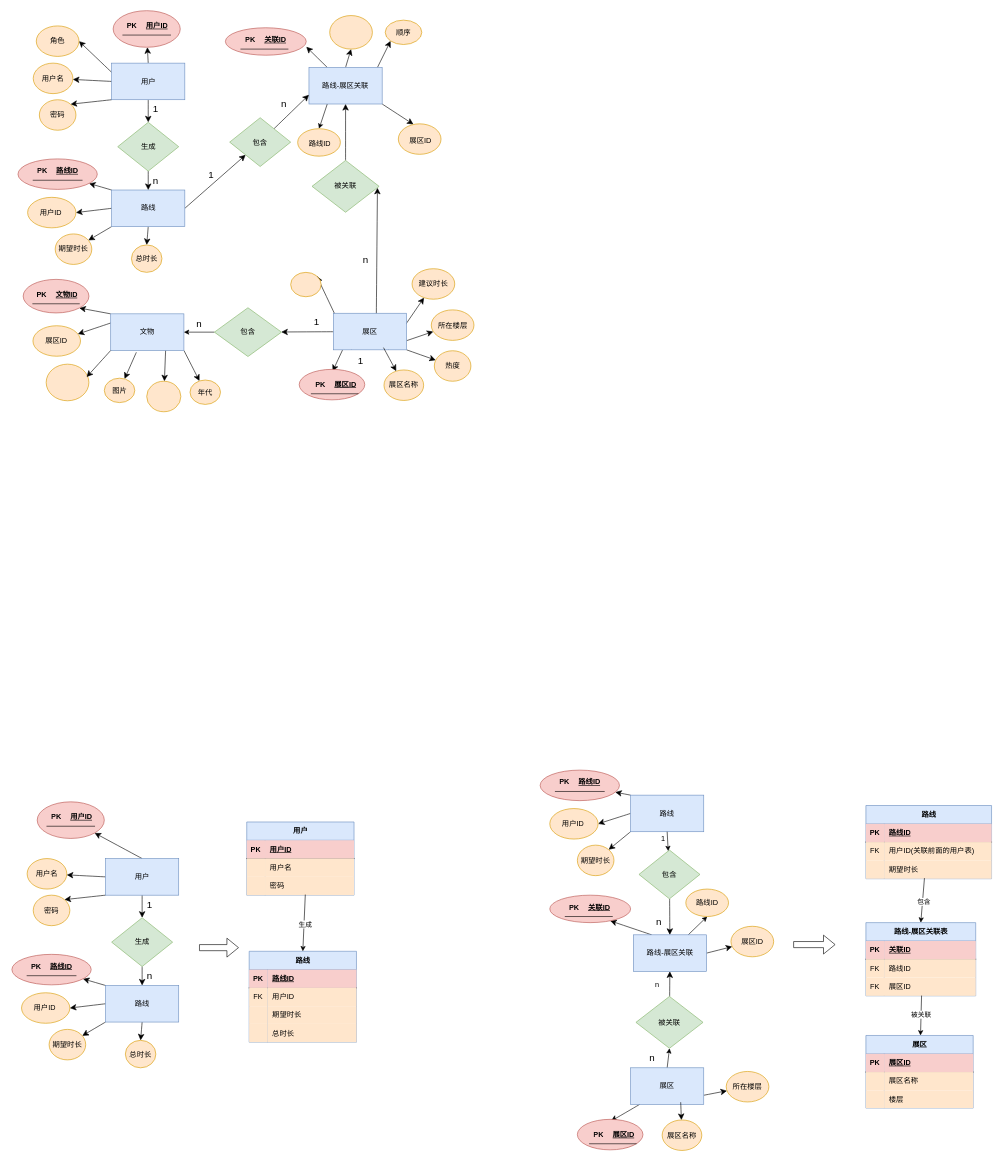
Image size: 1002x1161. Some labels were removed from this diagram. The centre of each missing label's shape, as x and y in pixels:
停留时间: the point at 350,32
坐标: the point at 305,284
文物名称: the point at 67,382
材质: the point at 163,396
